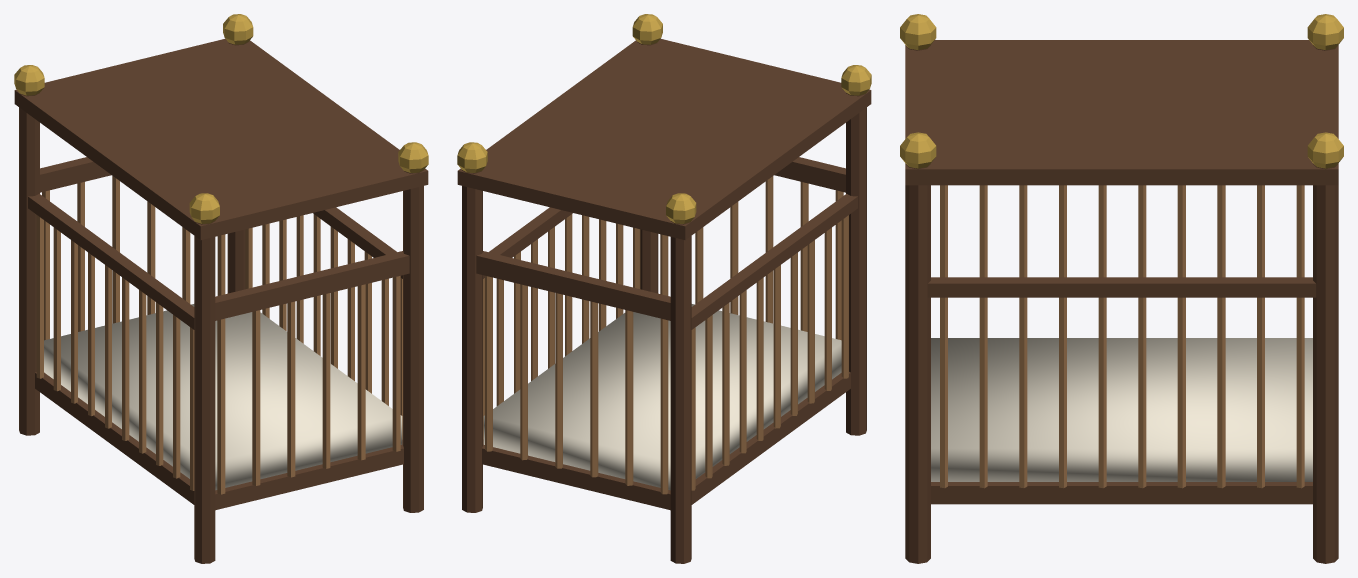
The model's file is cuna_gigante.glb.
3 views of the same model, side by side, from view 1: azimuth 30°, elevation 25°; view 2: azimuth 150°, elevation 25°; view 3: azimuth 270°, elevation 25° (orthographic). The views are drawn at different scales.
Parts seen in each view (by area): view 1: cuna_gigante; view 2: cuna_gigante; view 3: cuna_gigante.
Boxes of the visible parts, left/top/right/bottom form: cuna_gigante: left=14, top=14, right=428, bottom=563; cuna_gigante: left=457, top=14, right=871, bottom=563; cuna_gigante: left=900, top=14, right=1343, bottom=563.
Bounding box in the file's own units: 2.49 × 3.68 × 3.49.
